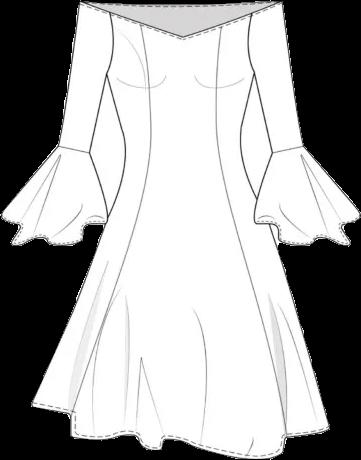Bodice: (106, 0, 255, 165)
Hemline: (30, 403, 331, 459)
Neckline: (109, 8, 255, 38)
Skirt: (31, 162, 329, 458)
Sleeve: (0, 0, 112, 245), (249, 0, 360, 246)
Sleeveline: (245, 1, 258, 80), (105, 0, 116, 78), (56, 141, 92, 153), (271, 142, 305, 153)
